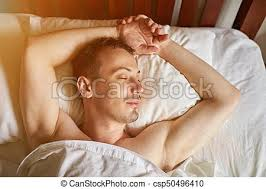sleeping: (16, 14, 243, 177)
